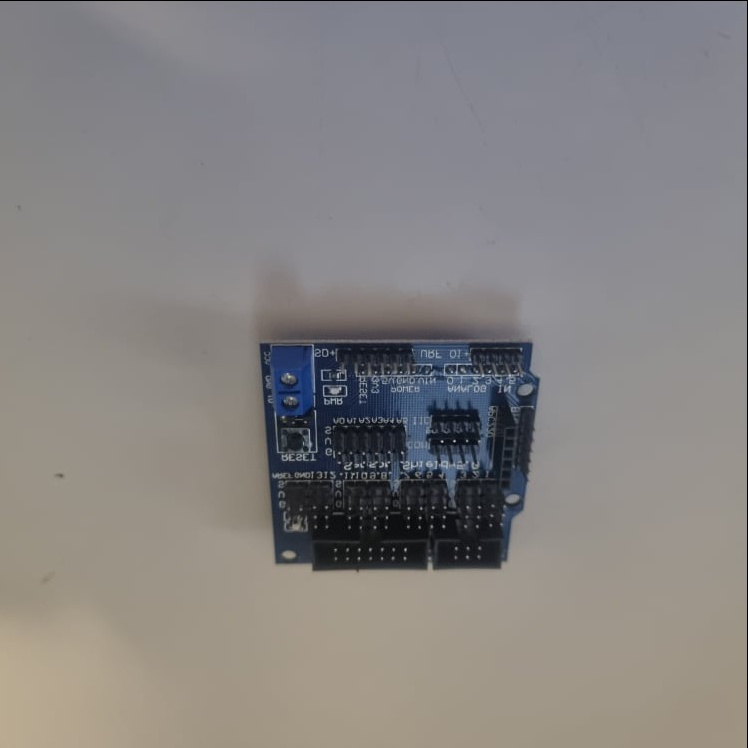5V EXPANSION: (258, 334, 546, 577)
